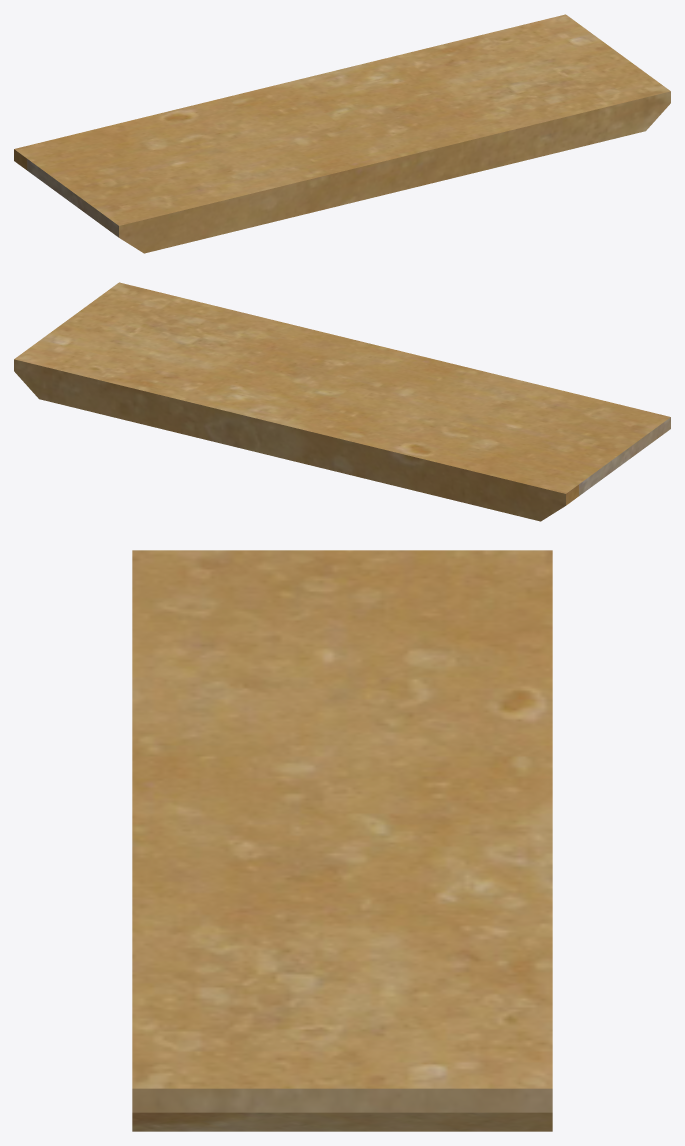
The model's file is ARC0810030.fbx.
3 views of the same model, one above another, from view 1: azimuth 30°, elevation 25°; view 2: azimuth 150°, elevation 25°; view 3: azimuth 270°, elevation 25° (orthographic). The views are drawn at different scales.
Parts seen in each view (by area): view 1: smARC0810030; view 2: smARC0810030; view 3: smARC0810030.
Boxes of the visible parts, box(x1,y1,x2,y2) form: smARC0810030: box(14, 14, 670, 253); smARC0810030: box(14, 282, 670, 521); smARC0810030: box(132, 550, 552, 1131).
Size of the model in its own units: 252 by 14.74 by 83.25.
1 material, 1 textured.
